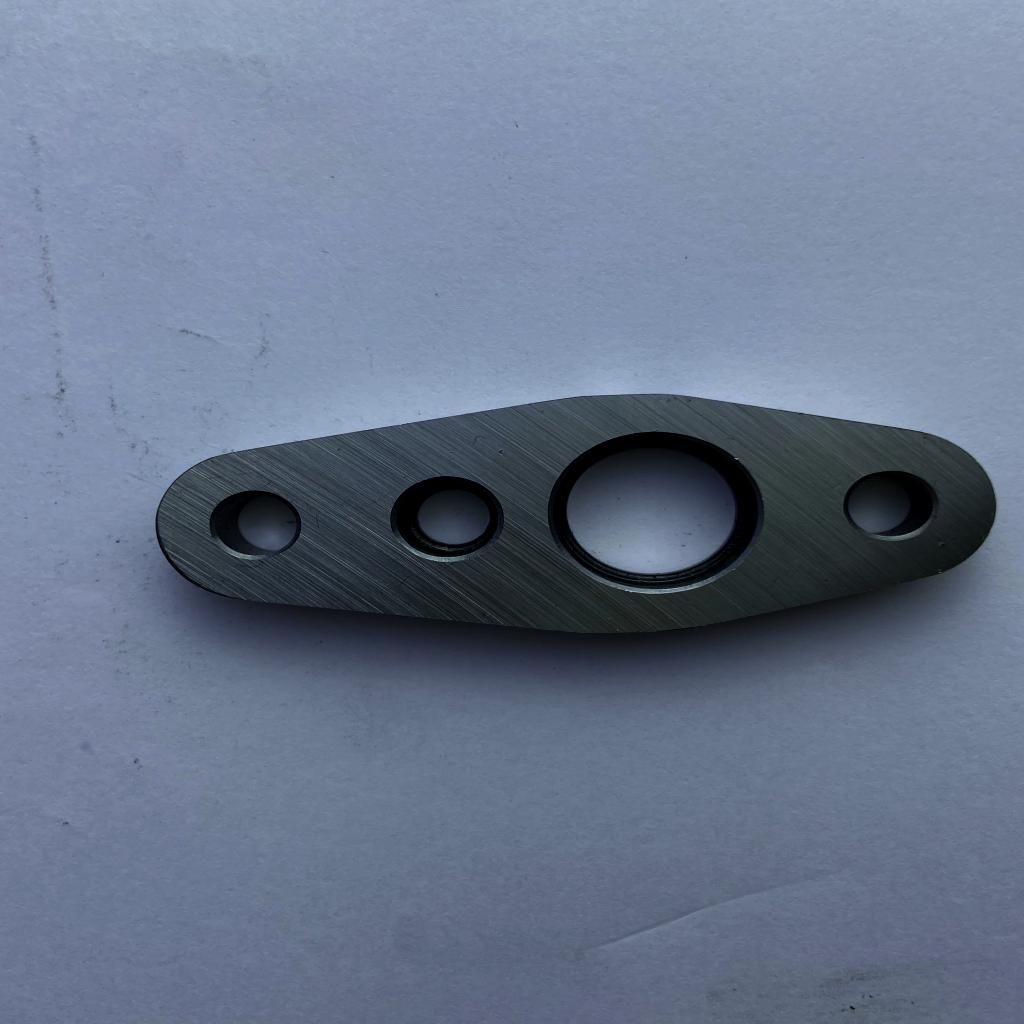chap: (496, 448, 506, 458), (935, 540, 947, 548), (731, 454, 742, 462), (935, 567, 944, 575)
